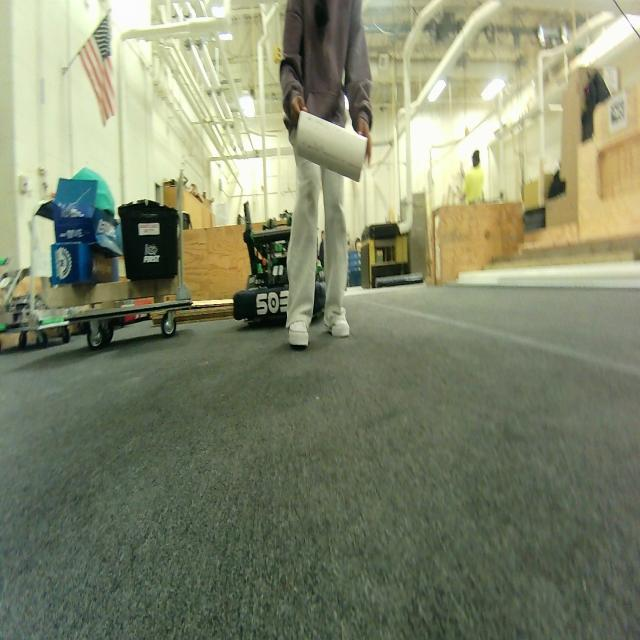coral: (290, 111, 367, 181)
